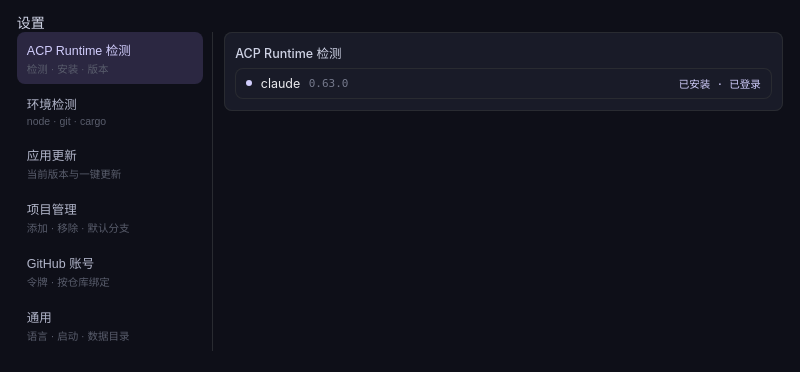
Test: 设置页二级导航 › 同一时刻只渲染选中的那一个分区
Check: the heading "ACP Runtime 检测" is shown, box [235,46,342,61]
What coordinates should you click on to do the following:
click the tab "通用 语言 · 启动 · 数据目录"
I would click on:
 (110, 325)
Its box is [17,299,203,351].
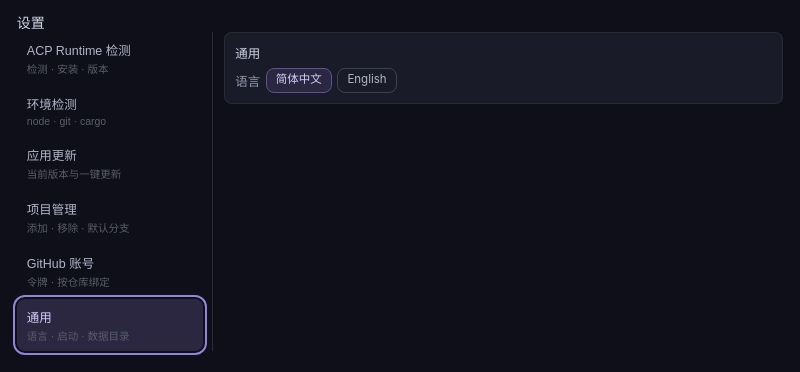
Check: the button "简体中文" is shown, box [266,68,332,93]
